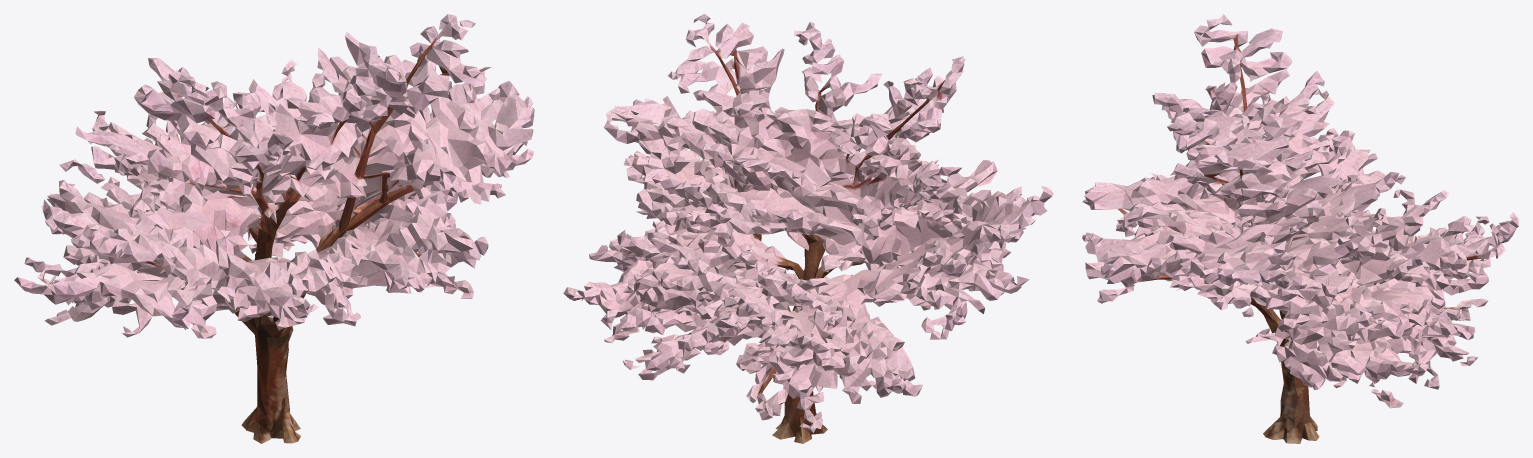
3 views of the same model, side by side, from view 1: azimuth 30°, elevation 25°; view 2: azimuth 150°, elevation 25°; view 3: azimuth 270°, elevation 25° (orthographic). The views are drawn at different scales.
Visible parts, largest first — view 1: model; view 2: model; view 3: model.
Boxes of the visible parts, x1,y1,x2,y2 form: model: (14, 14, 534, 443); model: (563, 14, 1053, 443); model: (1082, 14, 1518, 443).
Bounding box in the file's own units: 1.92 × 1.61 × 1.77.
1 material, 1 textured.
